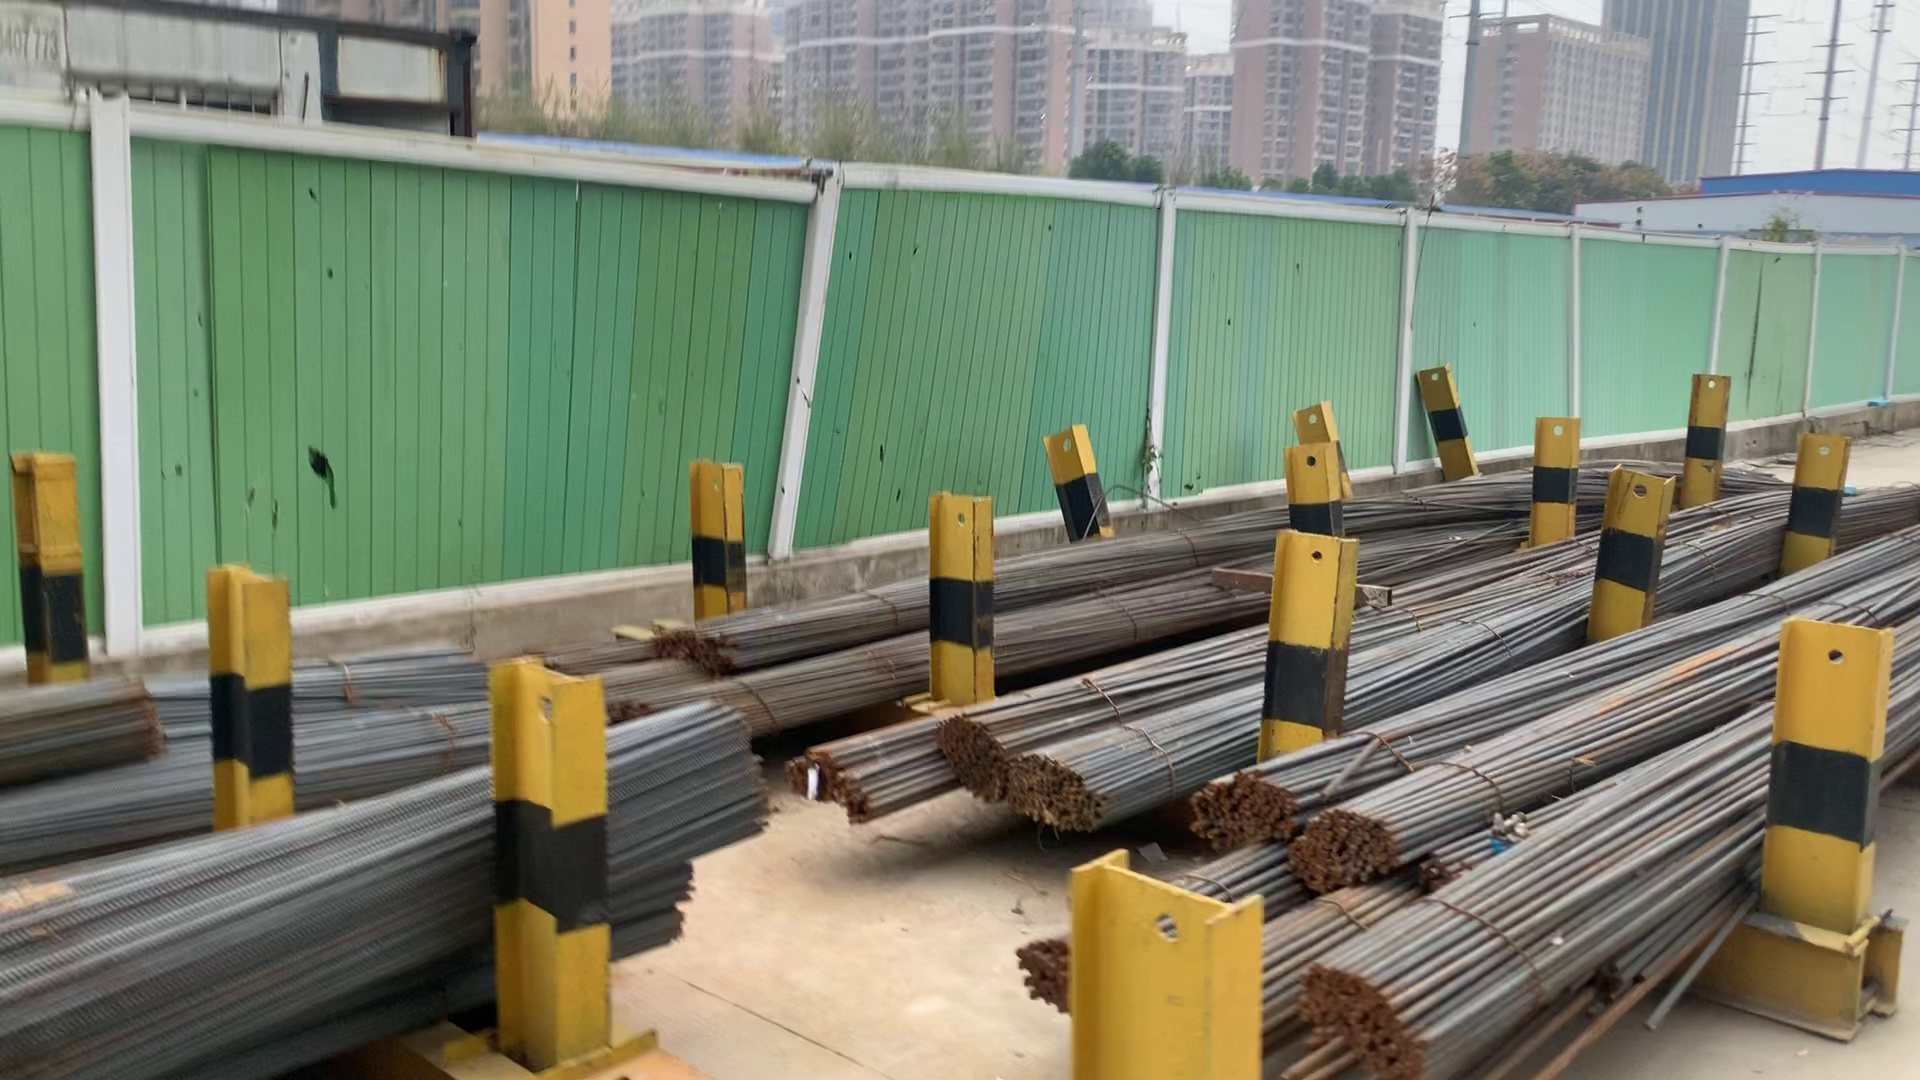rebar: (1299, 965, 1433, 1079), (1010, 754, 1110, 835), (781, 748, 881, 825), (1182, 775, 1295, 843), (1292, 816, 1393, 891), (934, 712, 1007, 807), (658, 616, 742, 670), (1015, 939, 1073, 1015)
